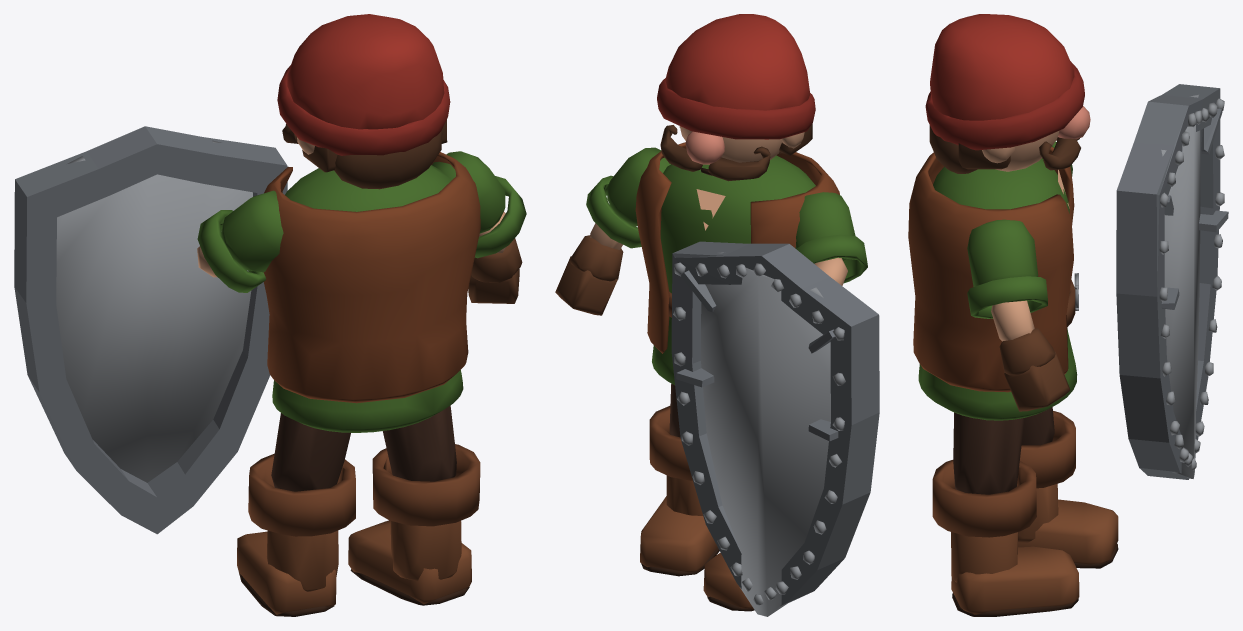
File: rook.glb
The picture shows the model from 3 angles, left to right: view 1: azimuth 30°, elevation 25°; view 2: azimuth 150°, elevation 25°; view 3: azimuth 270°, elevation 25°; orthographic projection. The views are drawn at different scales.
Visible parts, largest first — view 1: Arm1, Body.001, Leg-1.003, Leg1.003, Arm-1; view 2: Arm1, Body.001, Leg-1.003, Arm-1, Leg1.003; view 3: Body.001, Arm1, Leg-1.003, Arm-1, Leg1.003.
Boxes of the visible parts, bbox=[...] form: Arm1: bbox=[14, 126, 287, 534]; Body.001: bbox=[263, 14, 480, 432]; Leg-1.003: bbox=[348, 405, 480, 605]; Leg1.003: bbox=[237, 413, 355, 616]; Arm-1: bbox=[432, 151, 526, 303]; Arm1: bbox=[671, 192, 879, 616]; Body.001: bbox=[635, 14, 839, 385]; Leg-1.003: bbox=[640, 383, 719, 576]; Arm-1: bbox=[555, 147, 670, 315]; Leg1.003: bbox=[703, 553, 754, 611]; Body.001: bbox=[908, 14, 1090, 420]; Arm1: bbox=[1052, 84, 1228, 479]; Leg-1.003: bbox=[932, 412, 1079, 616]; Arm-1: bbox=[967, 219, 1070, 411]; Leg1.003: bbox=[1018, 407, 1118, 568].
Bounding box in the file's own units: 0.7735 × 1.01 × 0.5302.
